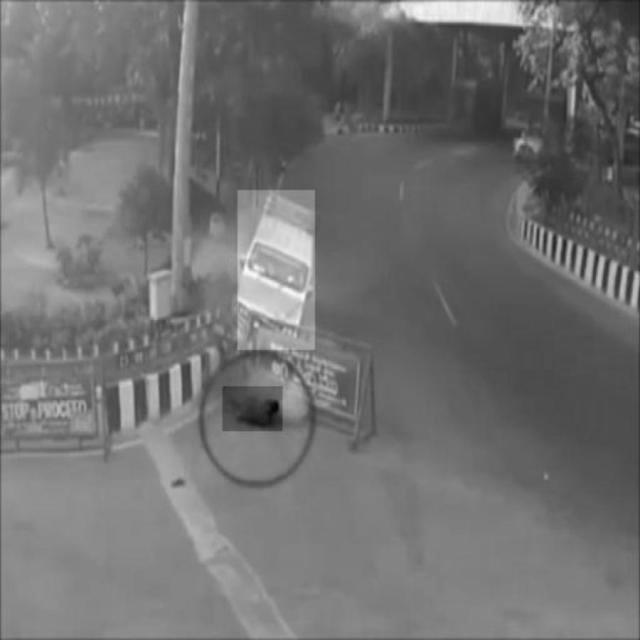accident: (238, 191, 315, 351)
person: (223, 387, 283, 432)
